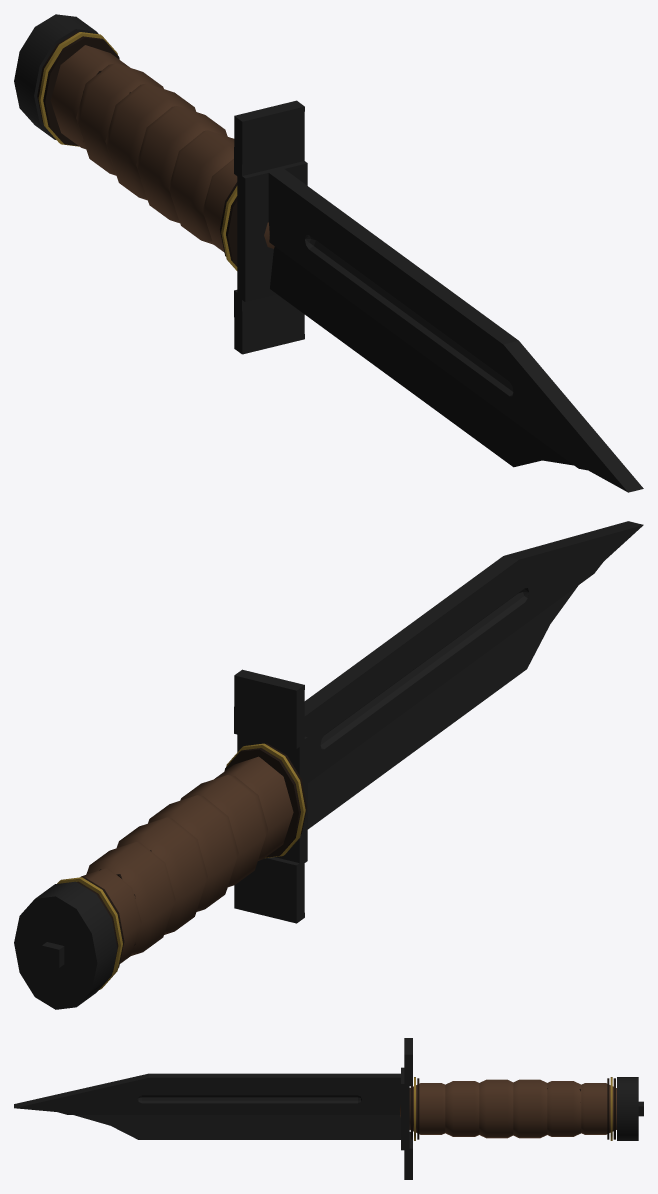
Rendered from kbar-knife.glb.
3 views of the same model, one above another, from view 1: azimuth 30°, elevation 25°; view 2: azimuth 150°, elevation 25°; view 3: azimuth 270°, elevation 25° (orthographic). The views are drawn at different scales.
Parts seen in each view (by area): view 1: Mesh_Blade, Mesh_GuardCenter, Mesh_GuardUpper, Mesh_LeatherSeg_2, Mesh_LeatherSeg_3, Mesh_LeatherSeg_1, Mesh_LeatherSeg_4, Mesh_GuardLower, Mesh_Pommel, Mesh_LeatherSeg_5, Mesh_LeatherSeg_0, Mesh_BackSpacer1 (+1 smaller); view 2: Mesh_Blade, Mesh_Pommel, Mesh_GuardUpper, Mesh_LeatherSeg_4, Mesh_LeatherSeg_3, Mesh_LeatherSeg_2, Mesh_LeatherSeg_1, Mesh_GuardLower, Mesh_LeatherSeg_0, Mesh_LeatherSeg_5, Mesh_GuardCenter, Mesh_FrontSpacer3 (+2 smaller); view 3: Mesh_Blade, Mesh_LeatherSeg_2, Mesh_LeatherSeg_3, Mesh_LeatherSeg_1, Mesh_LeatherSeg_4, Mesh_LeatherSeg_0, Mesh_LeatherSeg_5, Mesh_Pommel, Mesh_GuardCenter, Mesh_GuardUpper, Mesh_GuardLower.
Boxes of the visible parts, box(x1,y1,x2,y2) form: Mesh_Blade: box(268, 169, 643, 492); Mesh_GuardCenter: box(237, 161, 307, 301); Mesh_GuardUpper: box(234, 100, 304, 179); Mesh_LeatherSeg_2: box(136, 106, 227, 223); Mesh_LeatherSeg_3: box(105, 83, 196, 200); Mesh_LeatherSeg_1: box(168, 130, 234, 244); Mesh_LeatherSeg_4: box(76, 63, 163, 175); Mesh_GuardLower: box(234, 290, 304, 354); Mesh_Pommel: box(14, 14, 98, 139); Mesh_LeatherSeg_5: box(50, 45, 129, 149); Mesh_LeatherSeg_0: box(202, 159, 274, 251); Mesh_BackSpacer1: box(43, 36, 119, 145); Mesh_Blade: box(304, 521, 643, 829); Mesh_Pommel: box(14, 881, 117, 1009); Mesh_GuardUpper: box(234, 669, 304, 748); Mesh_LeatherSeg_4: box(86, 842, 175, 955); Mesh_LeatherSeg_3: box(116, 817, 207, 934); Mesh_LeatherSeg_2: box(148, 795, 238, 911); Mesh_LeatherSeg_1: box(180, 775, 267, 887); Mesh_GuardLower: box(234, 857, 304, 923); Mesh_LeatherSeg_0: box(214, 756, 293, 860); Mesh_LeatherSeg_5: box(80, 868, 141, 963); Mesh_GuardCenter: box(237, 734, 307, 863); Mesh_FrontSpacer3: box(224, 748, 300, 857); Mesh_Blade: box(14, 1073, 400, 1139); Mesh_LeatherSeg_2: box(479, 1079, 513, 1138); Mesh_LeatherSeg_3: box(513, 1079, 547, 1138); Mesh_LeatherSeg_1: box(445, 1081, 479, 1136); Mesh_LeatherSeg_4: box(547, 1081, 581, 1136); Mesh_LeatherSeg_0: box(400, 1083, 445, 1134); Mesh_LeatherSeg_5: box(581, 1083, 616, 1134); Mesh_Pommel: box(617, 1077, 638, 1140); Mesh_GuardCenter: box(401, 1067, 409, 1150); Mesh_GuardUpper: box(404, 1038, 412, 1085); Mesh_GuardLower: box(404, 1132, 412, 1179).
Size of the model in its own units: 0.024 by 0.064 by 0.2917.
